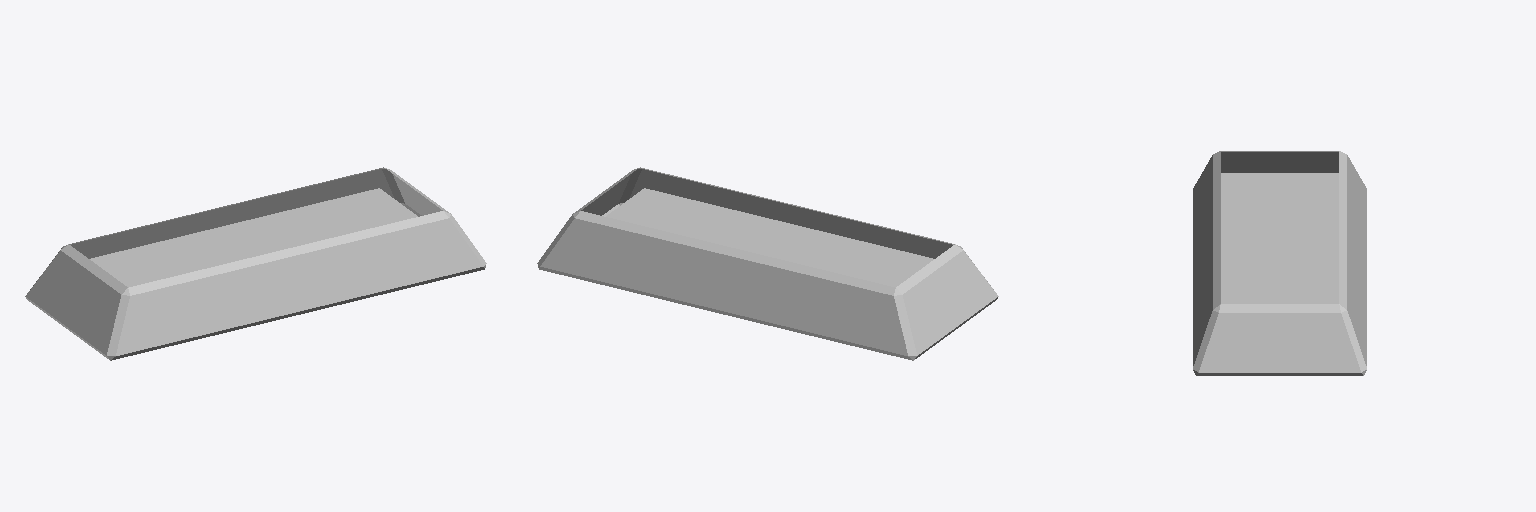
File: Sewer_Lamps.obj
3 renders of one model, left to right at view 1: azimuth 30°, elevation 25°; view 2: azimuth 150°, elevation 25°; view 3: azimuth 270°, elevation 25°, orthographic.
Visible parts, largest first — view 1: Lamp; view 2: Lamp; view 3: Lamp.
Part boxes in pixels (x1,y1,x2,y2): Lamp: (25, 167, 486, 360); Lamp: (537, 167, 998, 360); Lamp: (1193, 151, 1366, 375).
Size of the model in its own units: 4.23 by 0.6065 by 1.69.